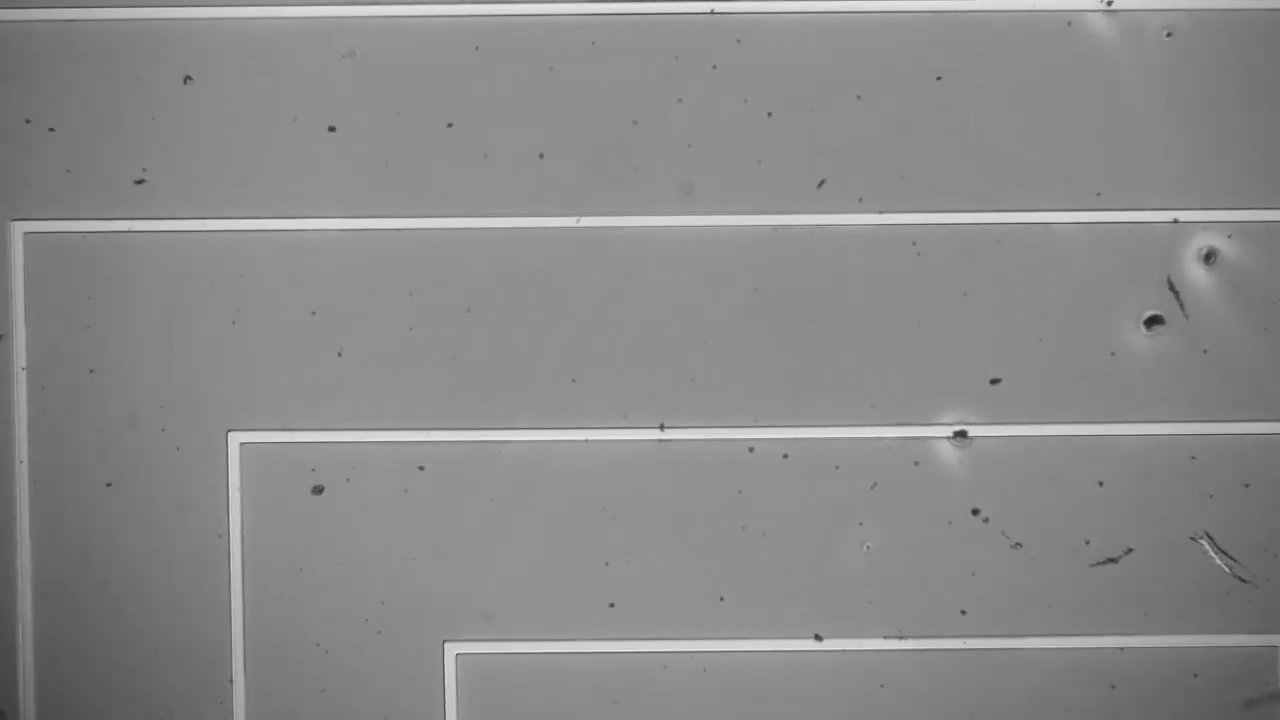stains_enbedded: (939, 421, 978, 451)
